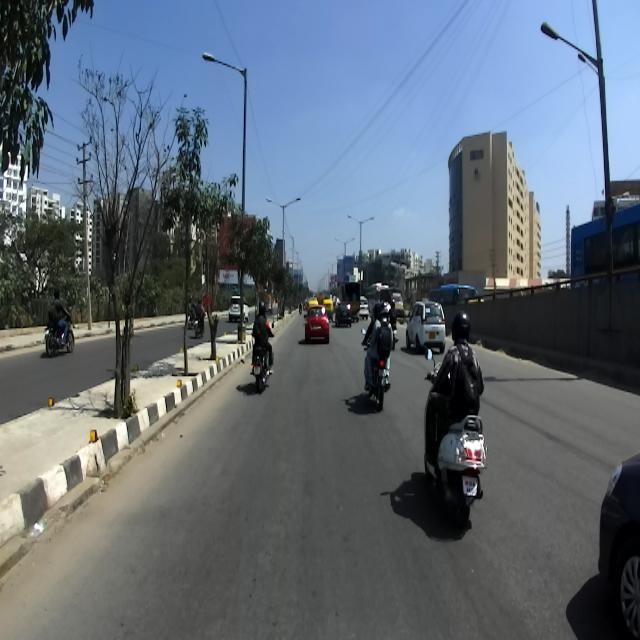motorcycle ahead at: (419, 416, 492, 523), (361, 352, 402, 412), (248, 344, 276, 401)
